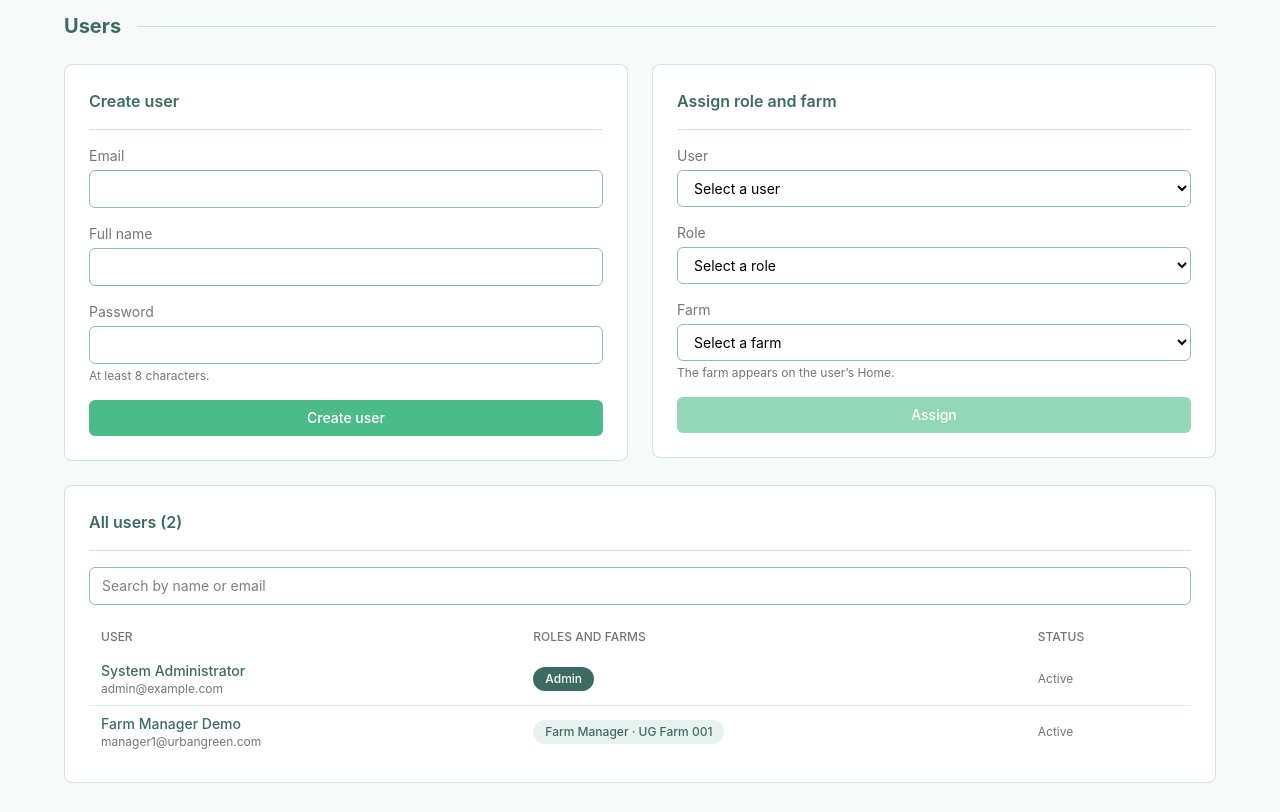
Test: Users › explains a conflict on create as a taken email
Check: the text "Farm Manager Demo" is shown, box [101,715,241,732]
In the field labelled "Email": (346, 189) [89,170,603,208], type "manager1@urbangreen.com"
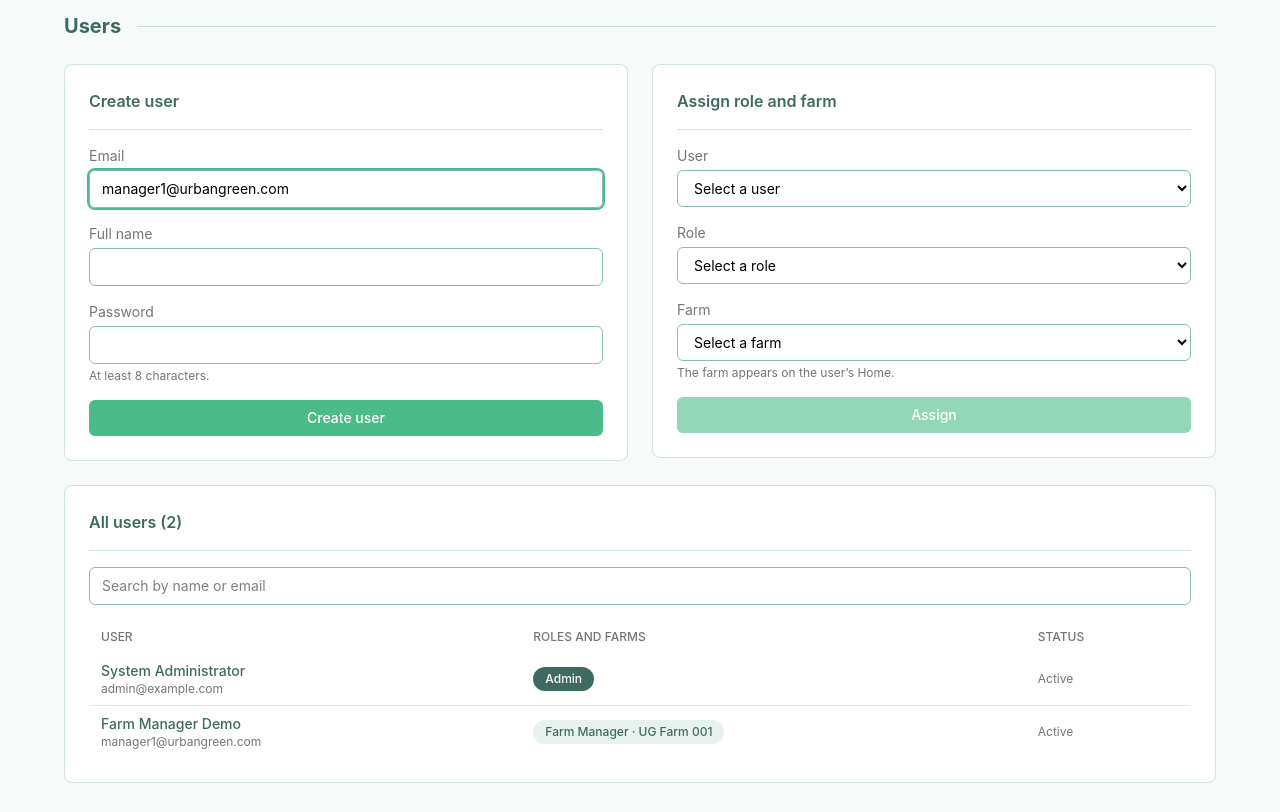
In the field labelled "Full name": (346, 267) [89,248,603,286], type "Duplicate"
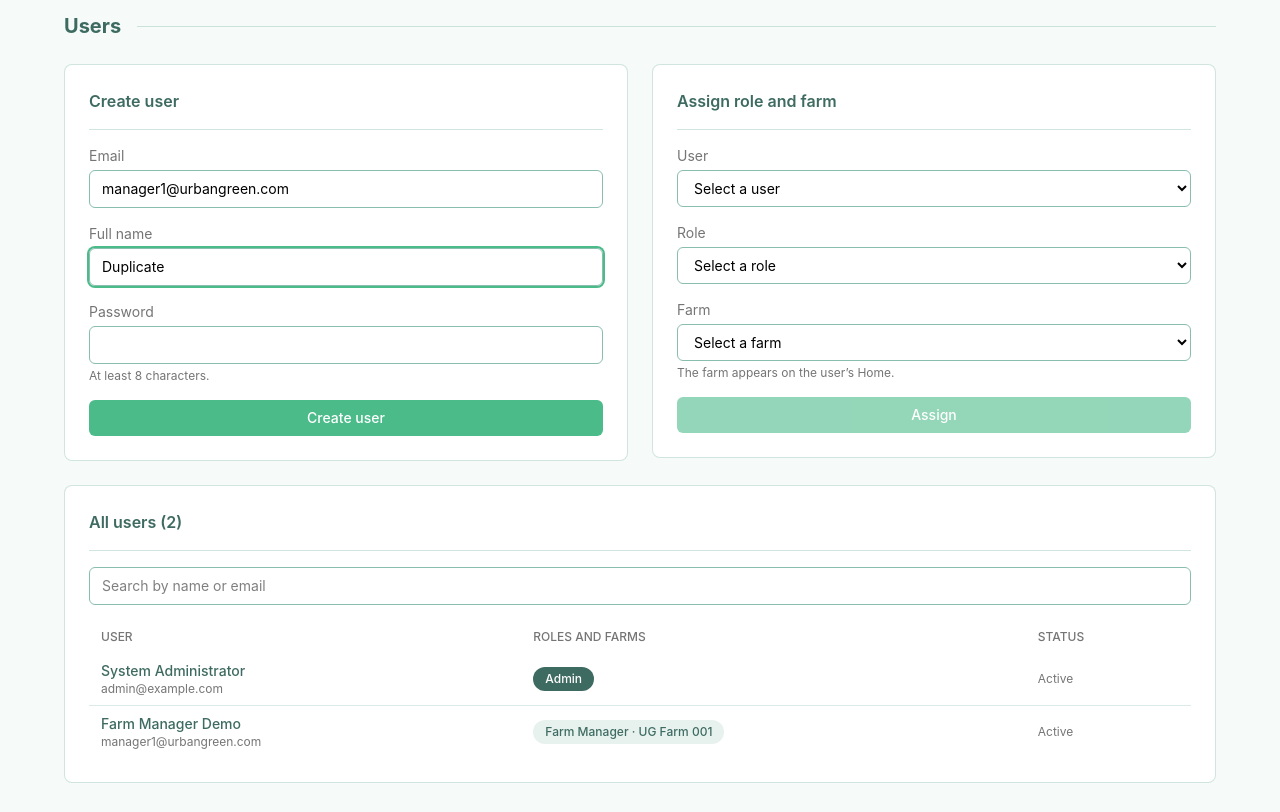
In the password field labelled "Password": (346, 345) [89,326,603,364], type "secret123"
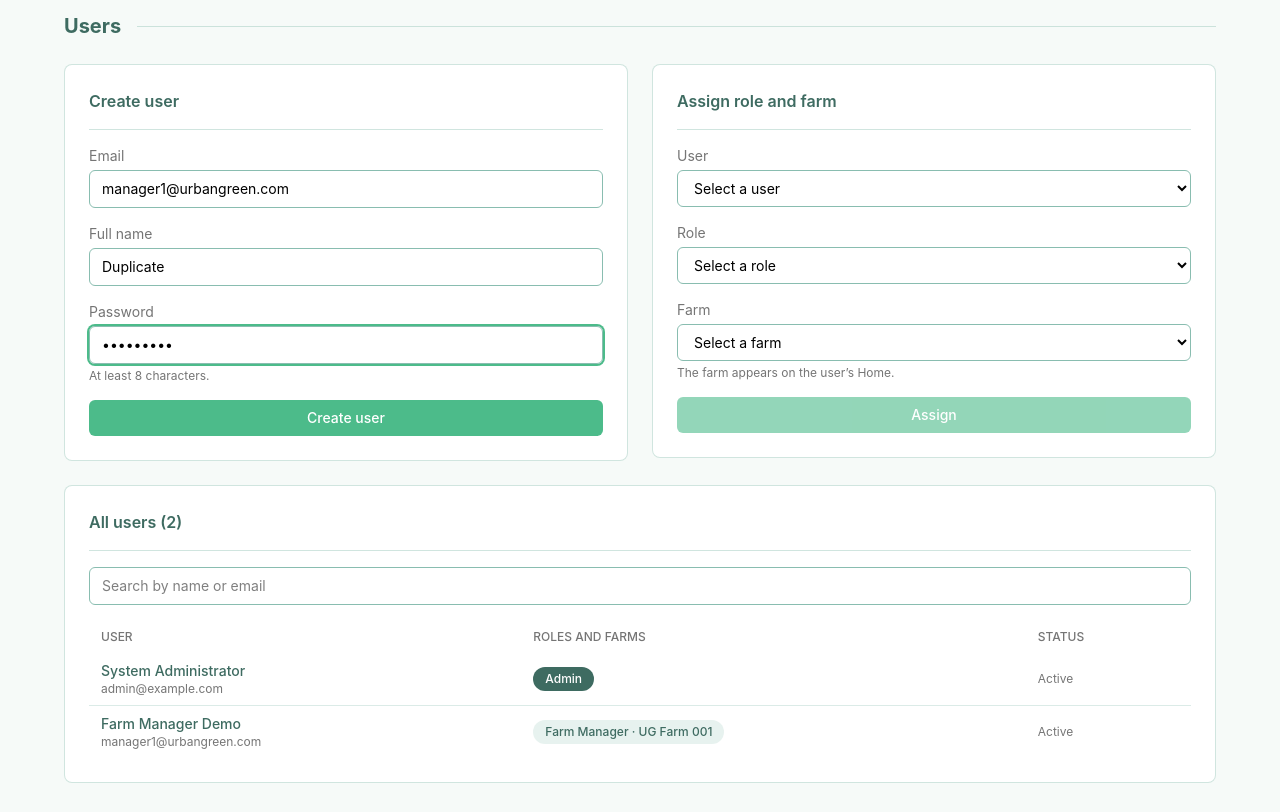
Click the button "Create user": (346, 418) [89,400,603,436]
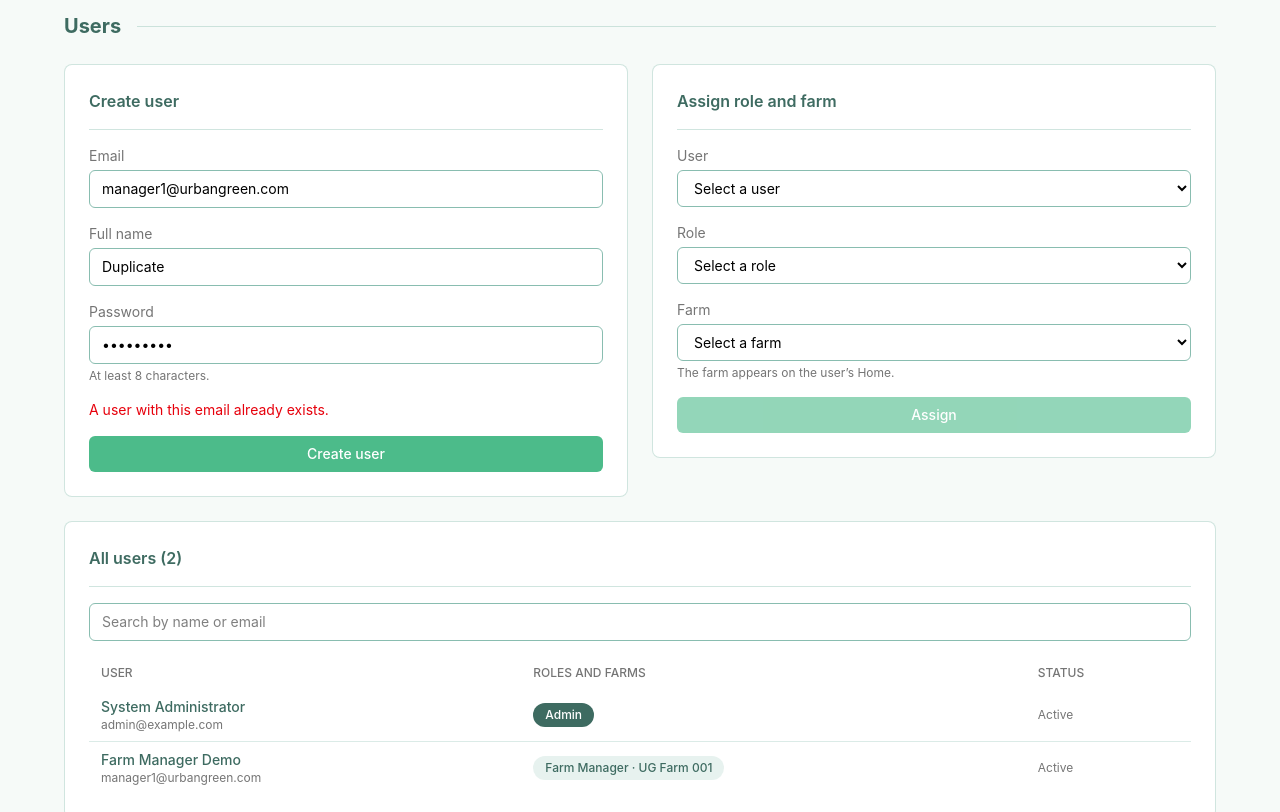
Check: the message shows "email already exists", box [89,401,329,418]
